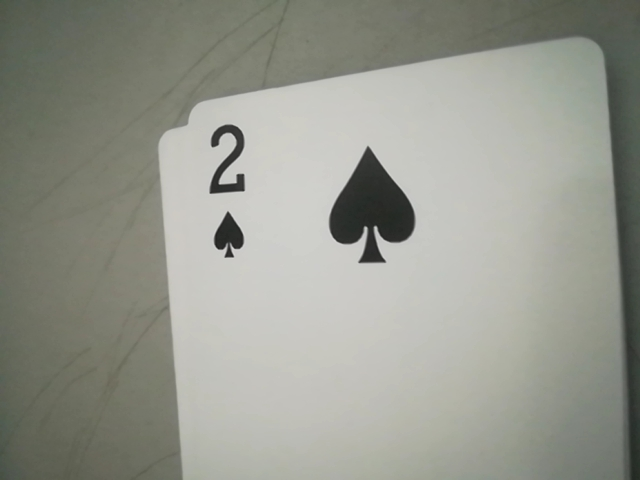ht 2: (185, 108, 267, 270)
